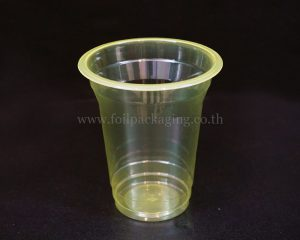plastic_bottle: (75, 34, 227, 225)
